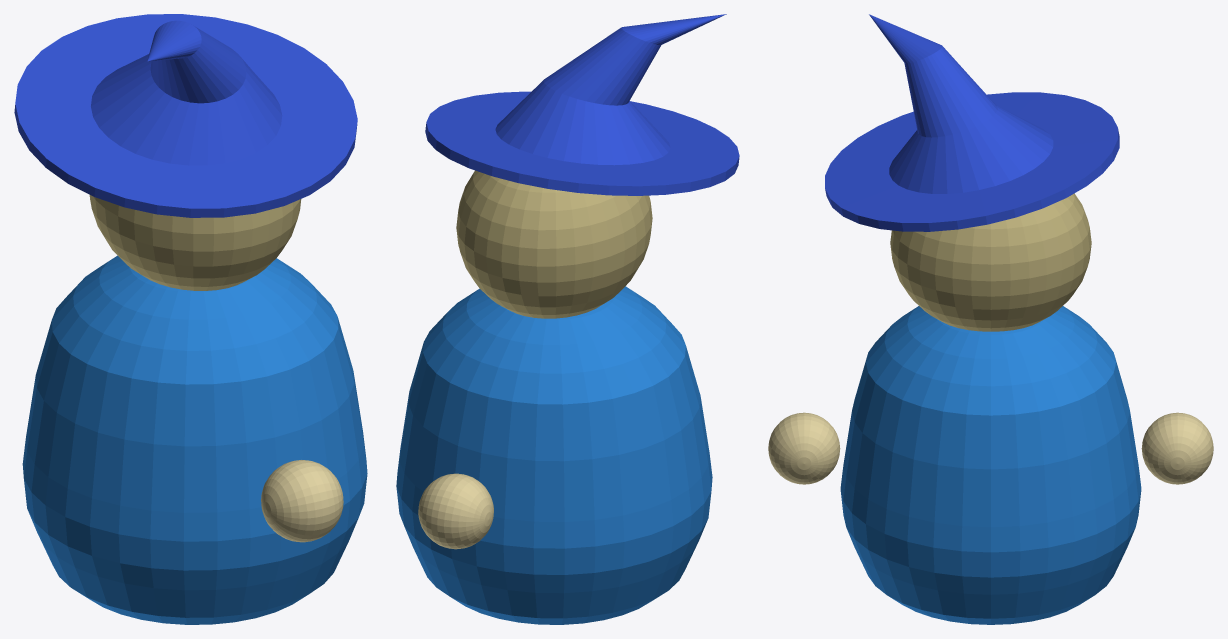
File: character1.fbx
3 views of the same model, side by side, from view 1: azimuth 30°, elevation 25°; view 2: azimuth 150°, elevation 25°; view 3: azimuth 270°, elevation 25° (orthographic). The views are drawn at different scales.
Parts seen in each view (by area): view 1: character1_body, character1_hat, character1_head, character1_hand; view 2: character1_body, character1_hat, character1_head, character1_hand; view 3: character1_body, character1_hat, character1_head, character1_hand.
Boxes of the visible parts, bbox=[...] form: character1_body: bbox=[22, 255, 367, 624]; character1_hat: bbox=[14, 14, 357, 217]; character1_head: bbox=[89, 195, 301, 290]; character1_hand: bbox=[261, 460, 343, 542]; character1_body: bbox=[396, 286, 712, 624]; character1_hat: bbox=[425, 14, 739, 195]; character1_head: bbox=[456, 170, 652, 318]; character1_hand: bbox=[418, 473, 493, 549]; character1_body: bbox=[840, 306, 1141, 624]; character1_hat: bbox=[825, 14, 1119, 231]; character1_head: bbox=[890, 193, 1091, 331]; character1_hand: bbox=[768, 412, 1213, 484].
Bounding box in the file's own units: 204 × 379 × 284.
